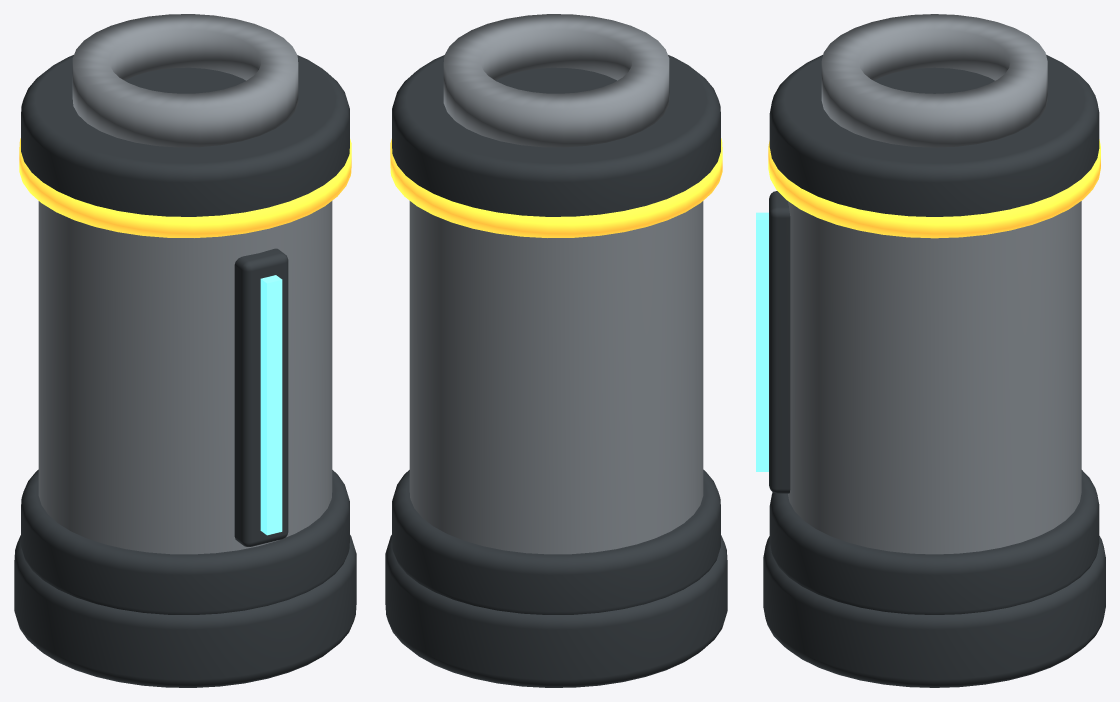
File: ZH_ENV_V5_SPARE_POWER_CELL.fbx
3 renders of one model, left to right at view 1: azimuth 30°, elevation 25°; view 2: azimuth 150°, elevation 25°; view 3: azimuth 270°, elevation 25°, orthographic.
Parts seen in each view (by area): view 1: Power cell | metal body.001, Power cell | collar.003, Power cell | base.001, Power cell | terminal.001, Power cell | collar.002, Power cell | front rail.001, Power cell | amber ring.001, Power cell | charge strip.001; view 2: Power cell | metal body.001, Power cell | collar.003, Power cell | base.001, Power cell | terminal.001, Power cell | collar.002, Power cell | amber ring.001; view 3: Power cell | metal body.001, Power cell | collar.003, Power cell | base.001, Power cell | terminal.001, Power cell | collar.002, Power cell | amber ring.001, Power cell | front rail.001, Power cell | charge strip.001.
Part boxes in pixels (bbox=[...]): Power cell | metal body.001: bbox=[38, 201, 332, 554]; Power cell | collar.003: bbox=[21, 55, 349, 216]; Power cell | base.001: bbox=[14, 535, 356, 687]; Power cell | terminal.001: bbox=[72, 14, 298, 147]; Power cell | collar.002: bbox=[21, 469, 349, 614]; Power cell | front rail.001: bbox=[234, 248, 288, 546]; Power cell | amber ring.001: bbox=[19, 138, 351, 237]; Power cell | charge strip.001: bbox=[260, 275, 282, 535]; Power cell | metal body.001: bbox=[409, 201, 703, 554]; Power cell | collar.003: bbox=[392, 55, 720, 216]; Power cell | base.001: bbox=[385, 535, 727, 687]; Power cell | terminal.001: bbox=[443, 14, 669, 147]; Power cell | collar.002: bbox=[392, 469, 720, 614]; Power cell | amber ring.001: bbox=[390, 138, 722, 237]; Power cell | metal body.001: bbox=[788, 201, 1081, 554]; Power cell | collar.003: bbox=[769, 54, 1099, 216]; Power cell | base.001: bbox=[763, 536, 1105, 687]; Power cell | terminal.001: bbox=[821, 14, 1047, 147]; Power cell | collar.002: bbox=[769, 470, 1099, 614]; Power cell | amber ring.001: bbox=[768, 139, 1100, 238]; Power cell | front rail.001: bbox=[769, 191, 790, 493]; Power cell | charge strip.001: bbox=[756, 212, 768, 471].
Size of the model in its own units: 0.212 by 0.3815 by 0.2165.
